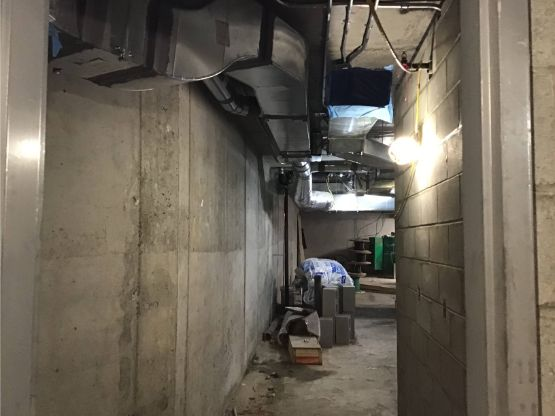Duct: (49, 1, 242, 93), (240, 1, 322, 216), (321, 59, 401, 176), (308, 185, 402, 215)
